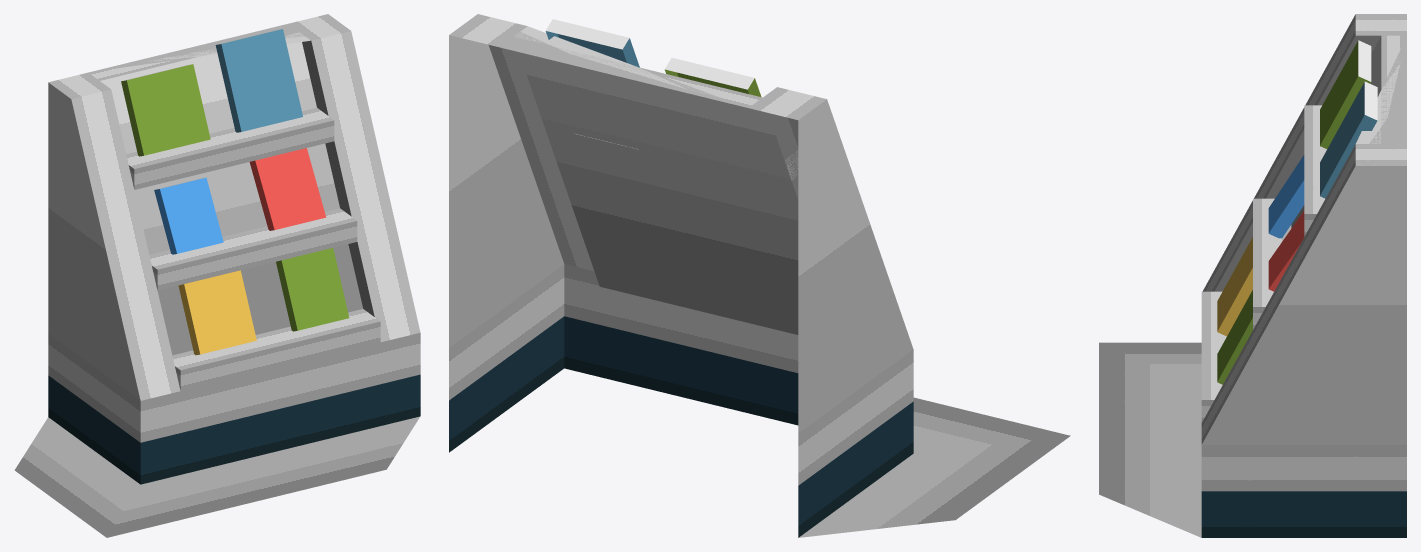
3 renders of one model, left to right at view 1: azimuth 30°, elevation 25°; view 2: azimuth 150°, elevation 25°; view 3: azimuth 270°, elevation 25°, orthographic. The views are drawn at different scales.
Parts seen in each view (by area): view 1: polygon0, polygon1; view 2: polygon0, polygon1; view 3: polygon0, polygon1.
Boxes of the visible parts, left/top/right/bottom form: polygon0: left=48, top=14, right=420, bottom=484; polygon1: left=14, top=416, right=420, bottom=537; polygon0: left=449, top=14, right=913, bottom=537; polygon1: left=799, top=397, right=1070, bottom=537; polygon0: left=1201, top=14, right=1406, bottom=537; polygon1: left=1099, top=342, right=1201, bottom=537.
Size of the model in its own units: 4.5 by 4.17 by 3.
